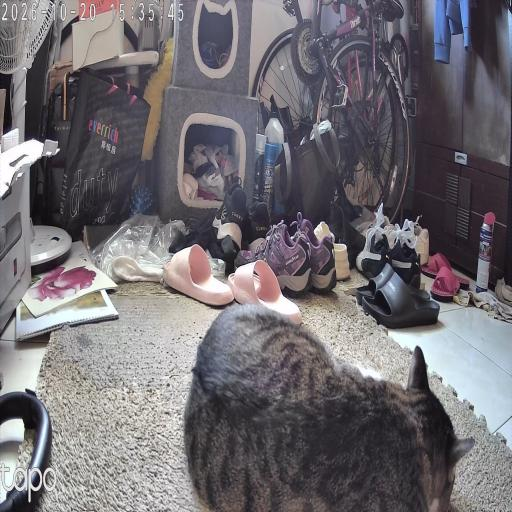cat: (191, 341, 457, 512)
